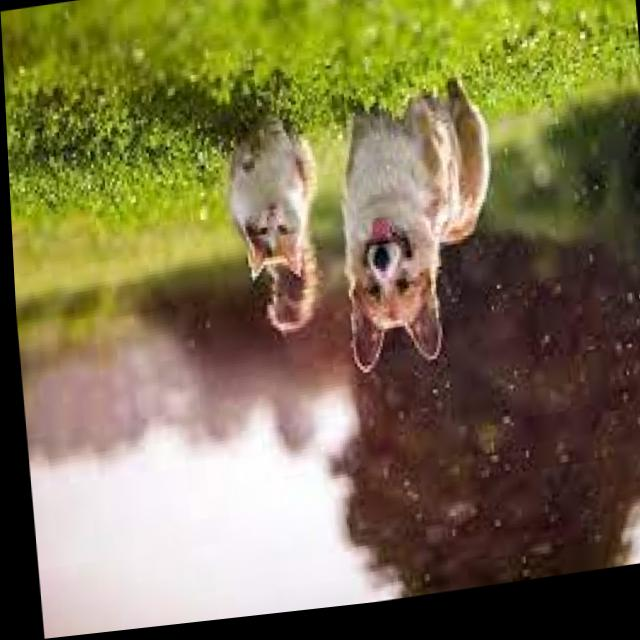Cat: (192, 107, 335, 354)
Dog: (325, 83, 513, 396)
